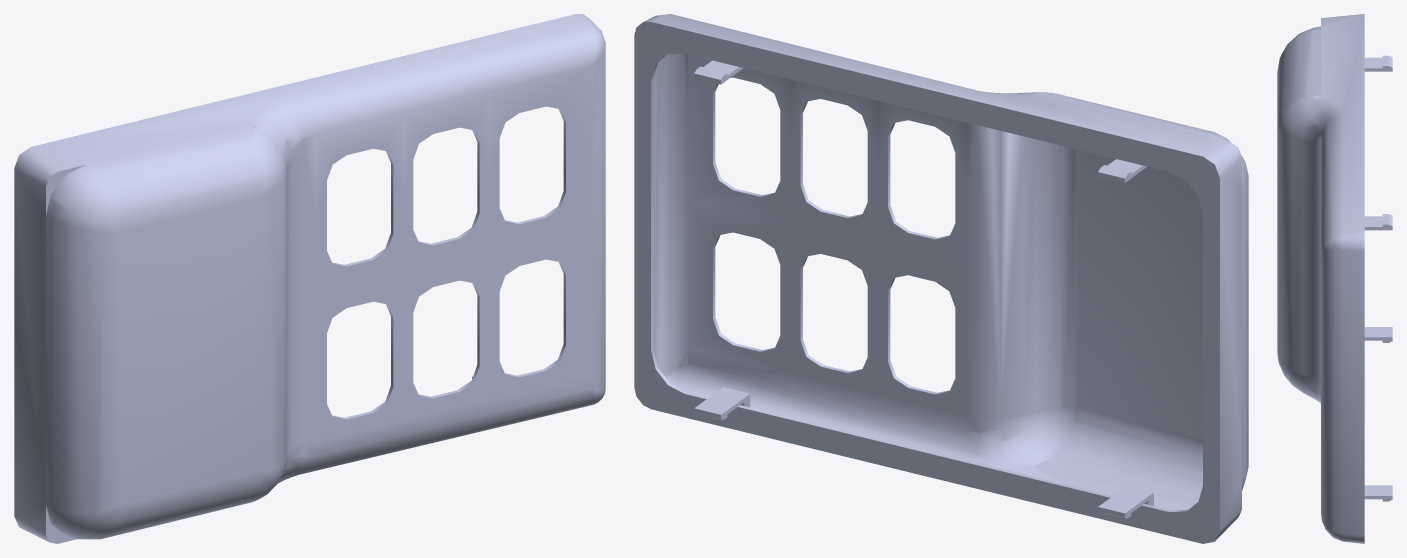
The model's file is lid_krs_2.dae.
3 renders of one model, left to right at view 1: azimuth 30°, elevation 25°; view 2: azimuth 150°, elevation 25°; view 3: azimuth 270°, elevation 25°, orthographic. The views are drawn at different scales.
Visible parts, largest first — view 1: node0; view 2: node0; view 3: node0.
Part boxes in pixels (x1,y1,x2,y2): node0: (14, 14, 605, 543); node0: (634, 14, 1248, 543); node0: (1277, 14, 1392, 543).
Bounding box in the file's own units: 0.174 × 0.11 × 0.037.
